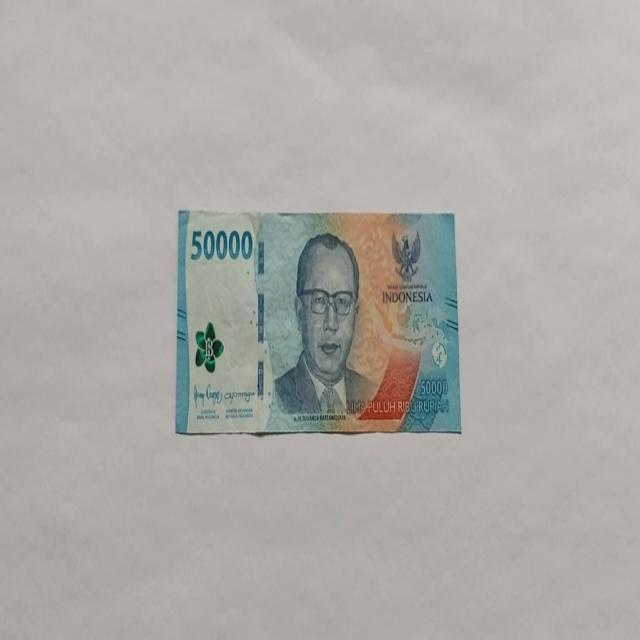lima puluh ribu rupiah: (175, 207, 462, 437), (270, 230, 378, 420)
